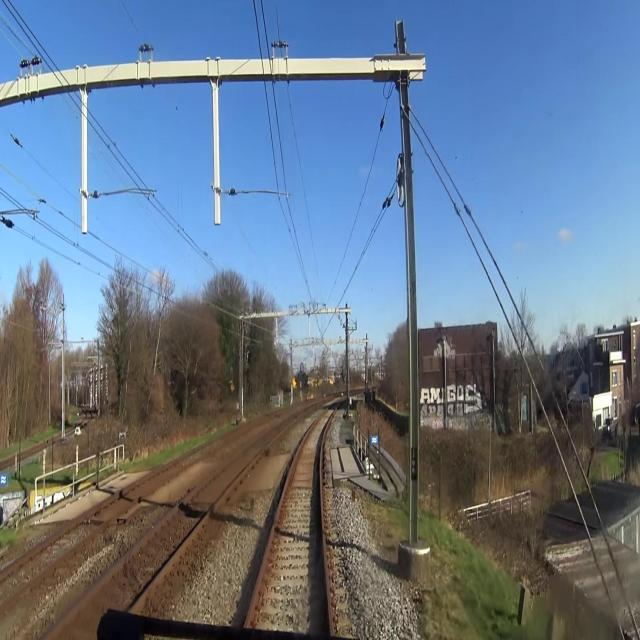rail-track: (51, 424, 284, 639), (0, 451, 199, 598), (250, 410, 331, 631)
